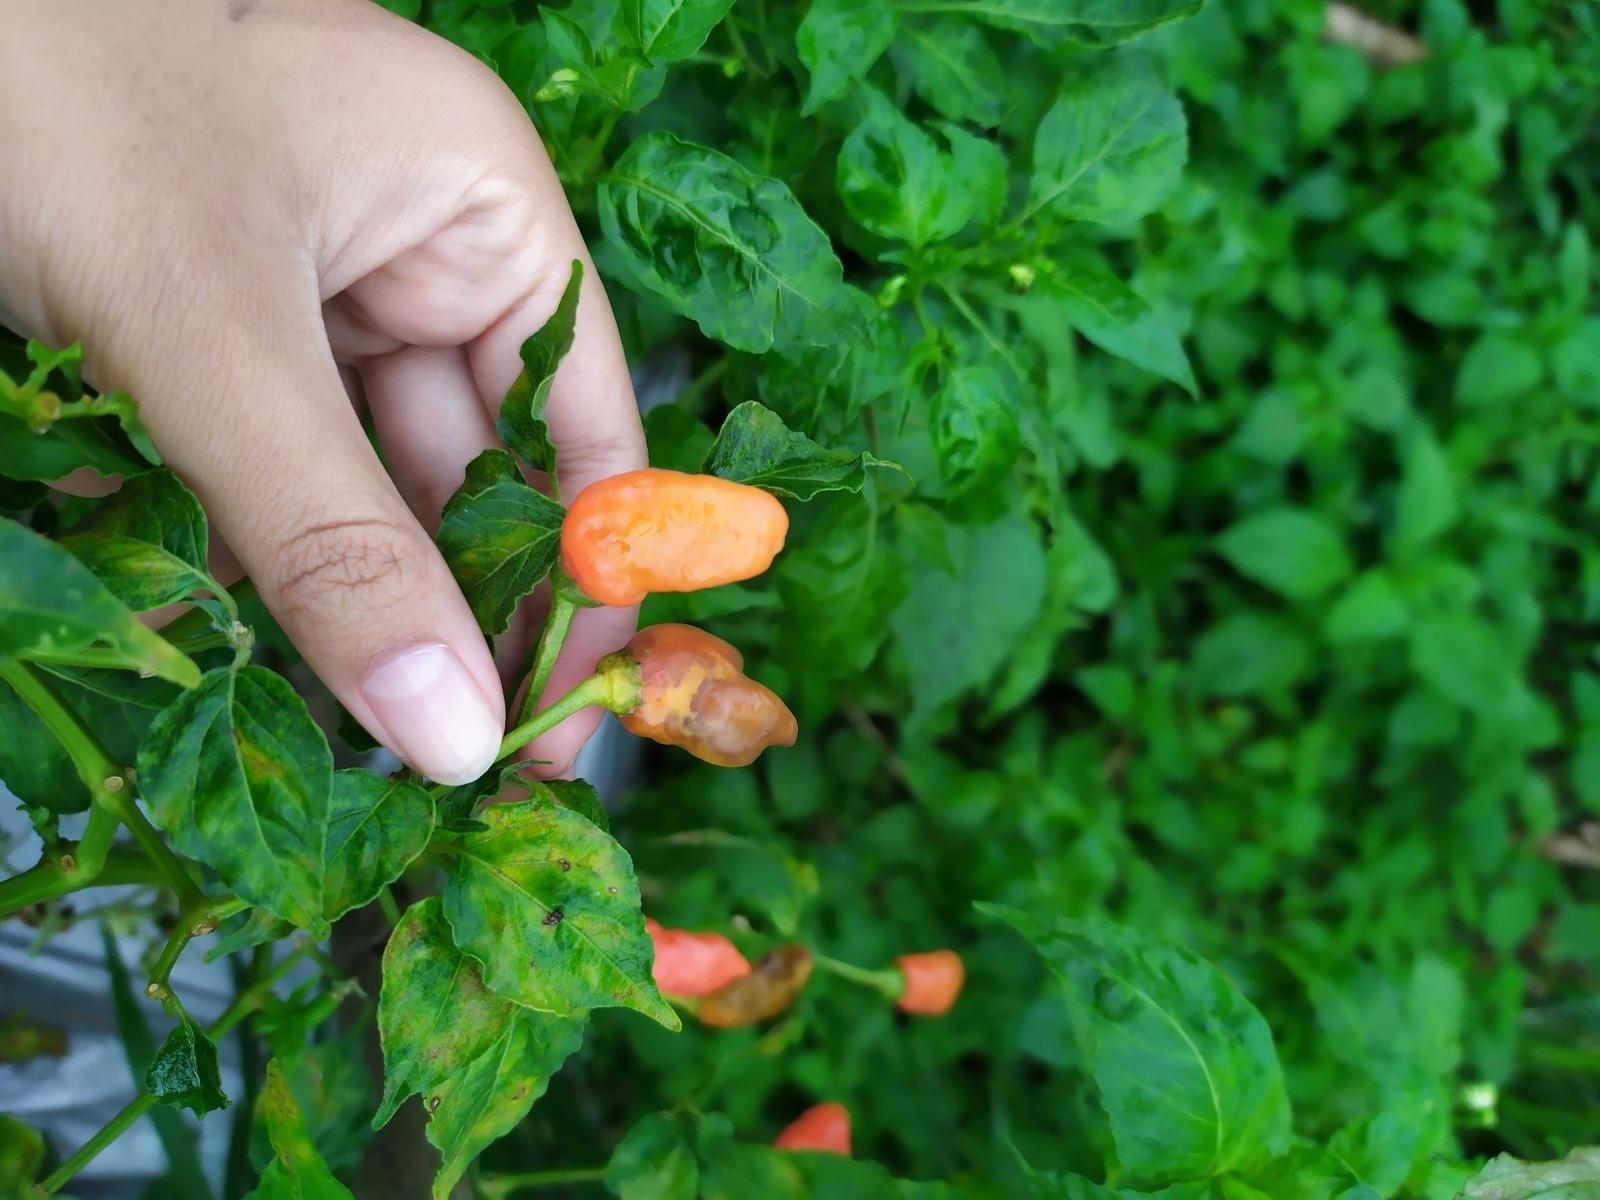cabai_normal: (559, 469, 791, 609), (640, 916, 752, 1000), (891, 949, 965, 1011)
lalat_buah: (614, 621, 799, 768), (695, 944, 814, 1029)
